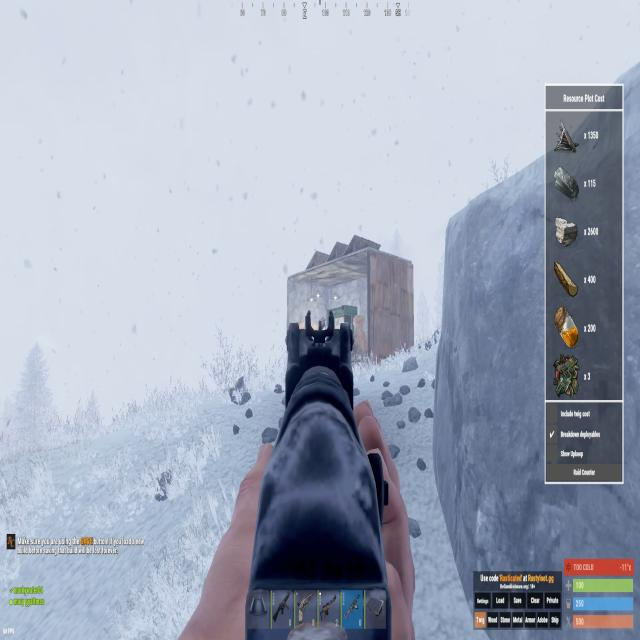Player: (320, 317, 328, 340)
